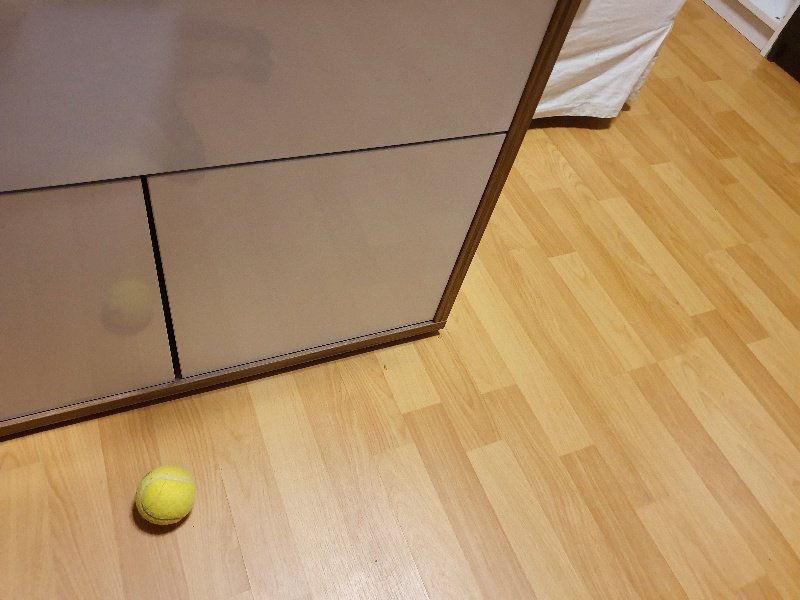Tennisball: (125, 462, 205, 535)
